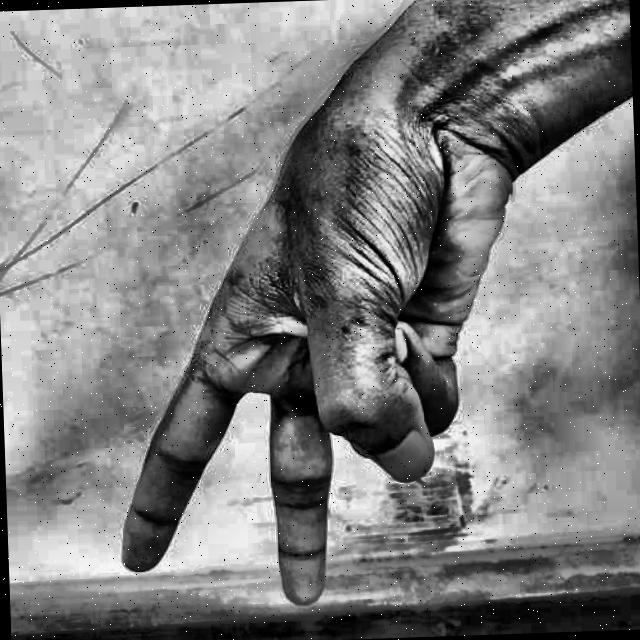Pa: (87, 51, 534, 624)
